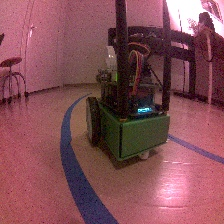rob: (84, 44, 171, 161)
